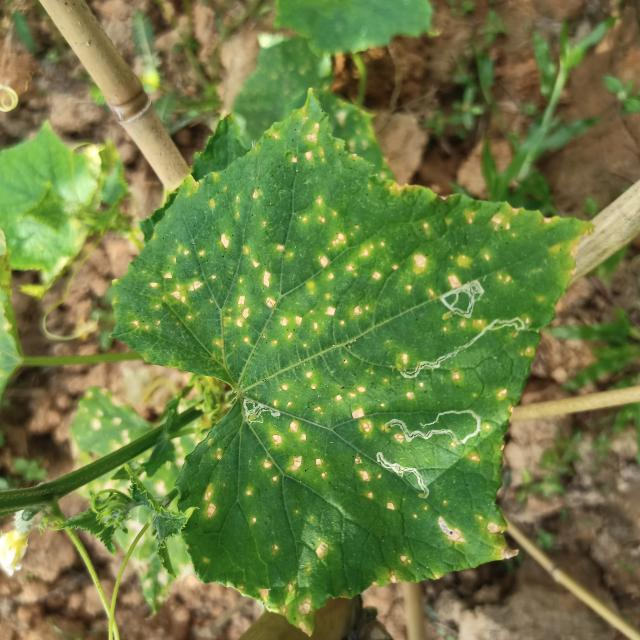disease_cucumber: (148, 126, 559, 358), (240, 422, 332, 515), (278, 366, 383, 438), (253, 534, 331, 630), (427, 507, 510, 558), (350, 454, 398, 517), (396, 370, 466, 404), (363, 547, 416, 588), (199, 480, 219, 529)
